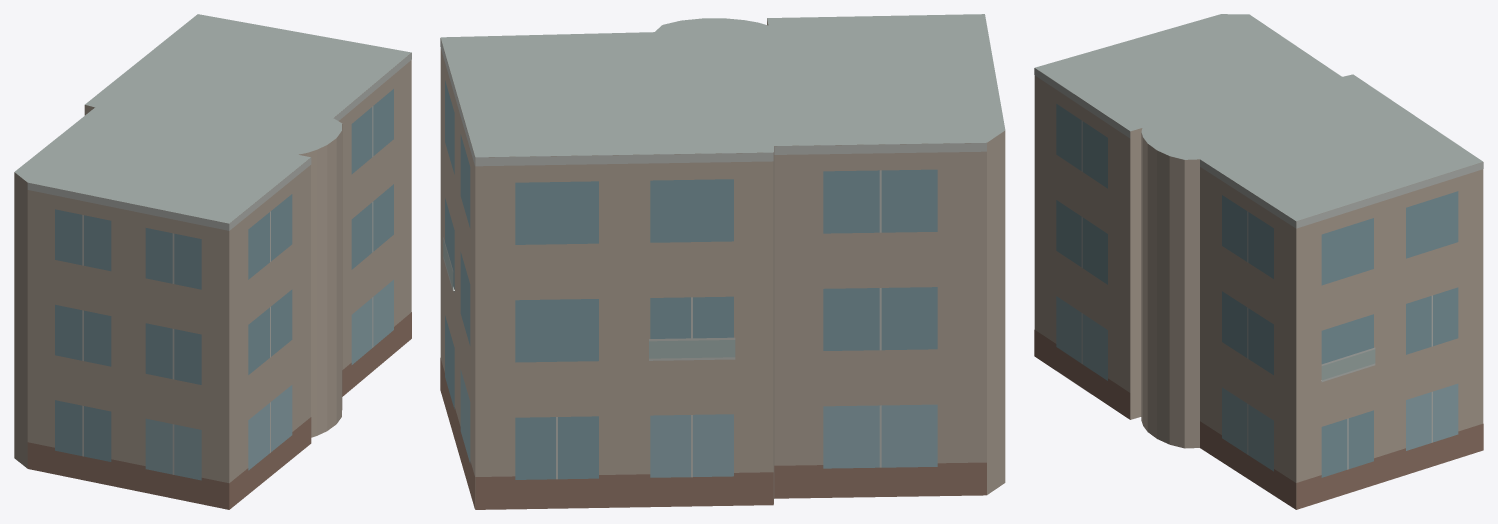
Rendered from survey-upis-32992577.glb.
3 renders of one model, left to right at view 1: azimuth 30°, elevation 25°; view 2: azimuth 150°, elevation 25°; view 3: azimuth 270°, elevation 25°, orthographic. The views are drawn at different scales.
Parts seen in each view (by area): view 1: survey-upis-32992577.tmp; view 2: survey-upis-32992577.tmp; view 3: survey-upis-32992577.tmp.
Part boxes in pixels (x1,y1,x2,y2): survey-upis-32992577.tmp: (14,14,411,509); survey-upis-32992577.tmp: (440,14,1005,509); survey-upis-32992577.tmp: (1034,14,1483,509).
Bounding box in the file's own units: 14.8 × 9.6 × 13.55.
